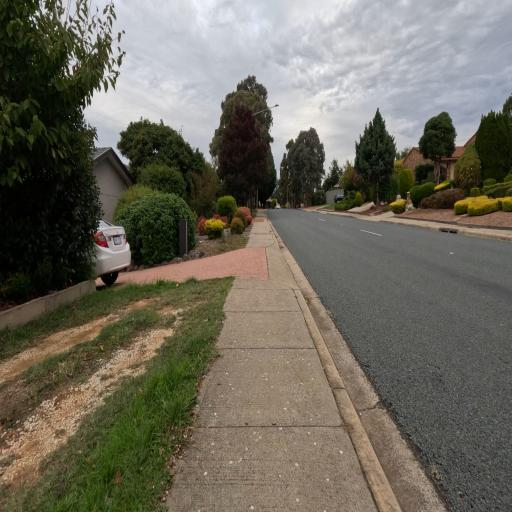kerb_cut: (253, 245, 311, 286)
